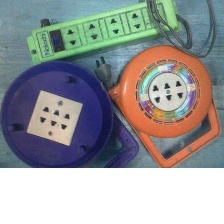three_eye_plug: (1, 56, 108, 164), (24, 0, 186, 71), (112, 39, 220, 143)
